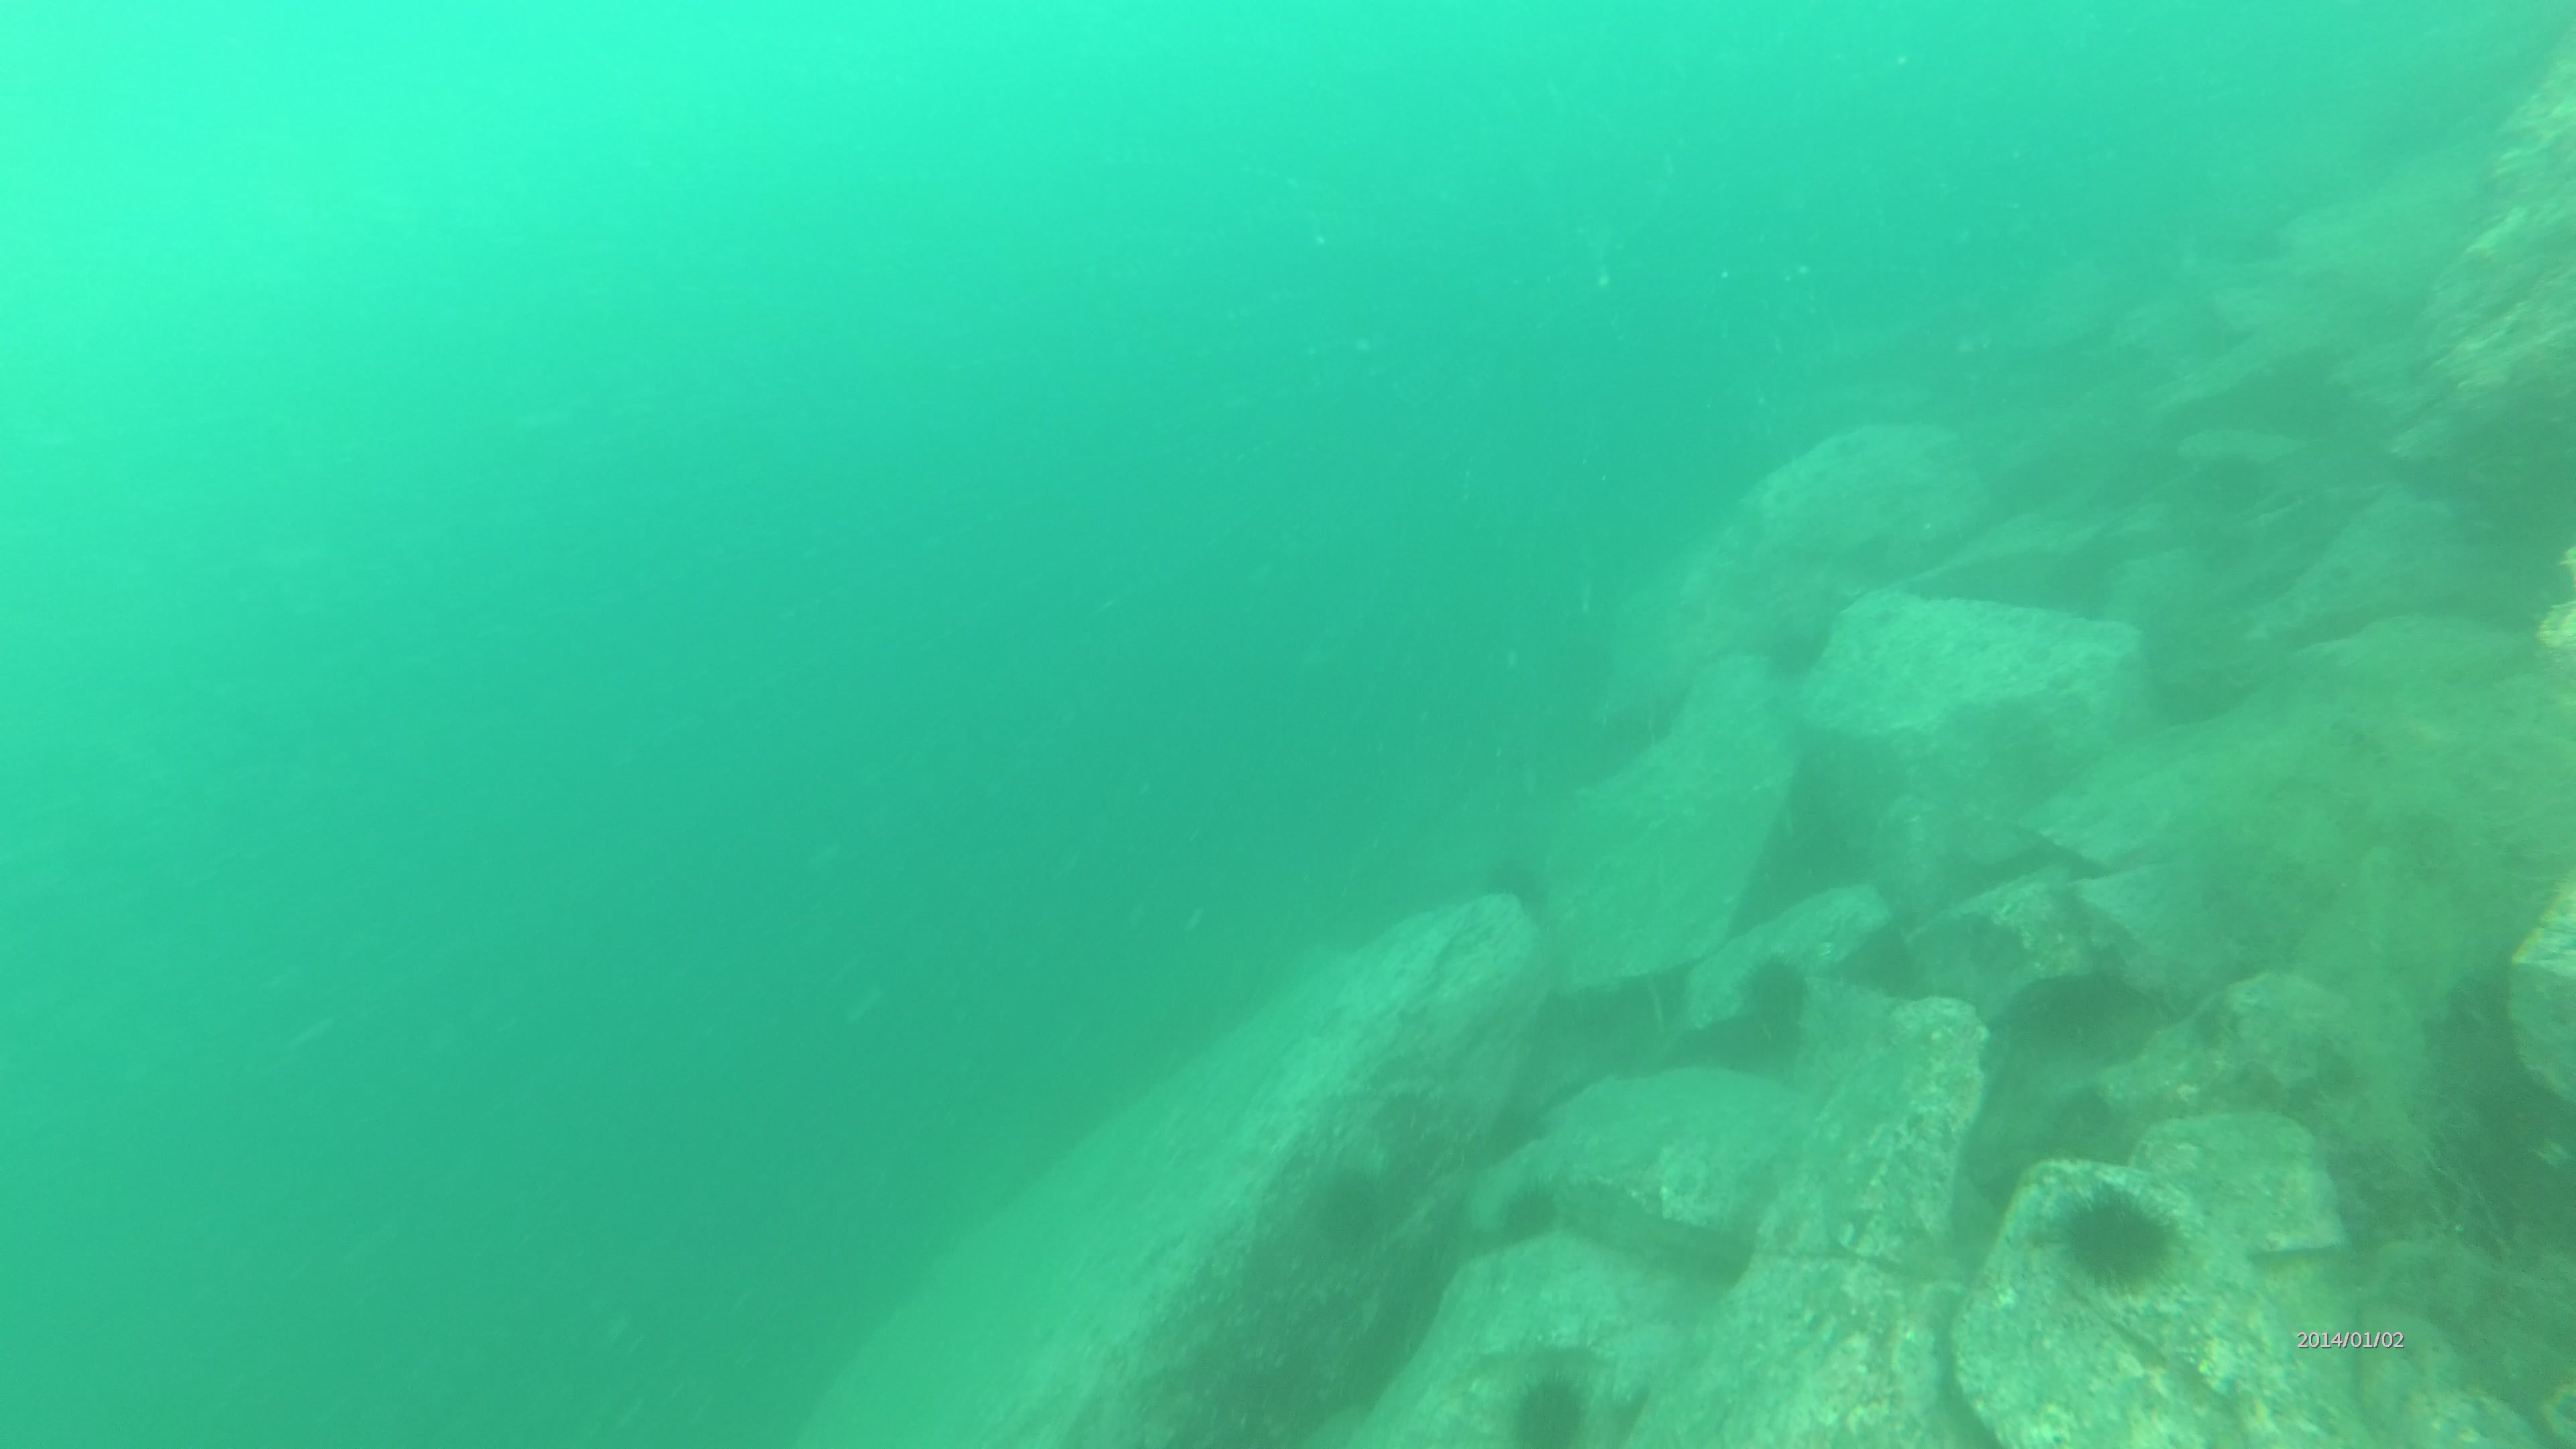echinus: (2054, 1182, 2187, 1299)
